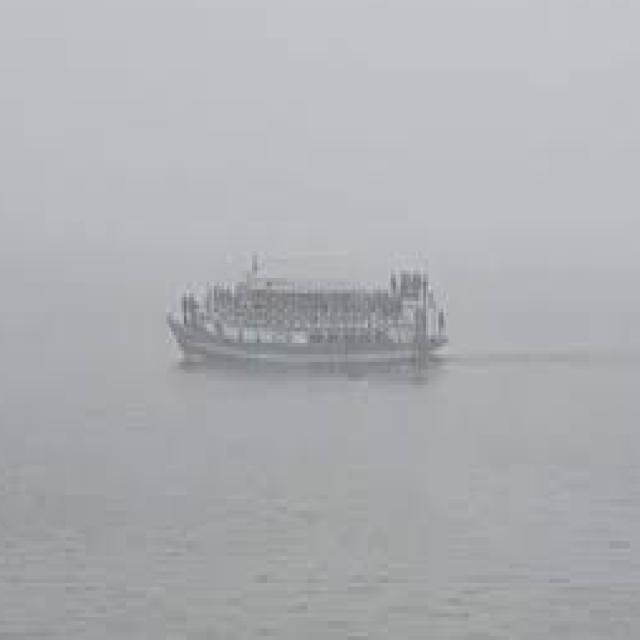passenger ship: (150, 232, 462, 370)
